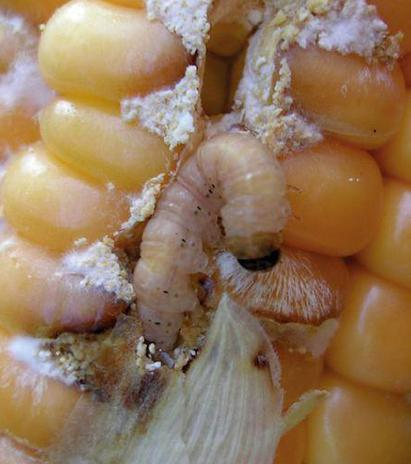caterpillars: (89, 84, 314, 379)
